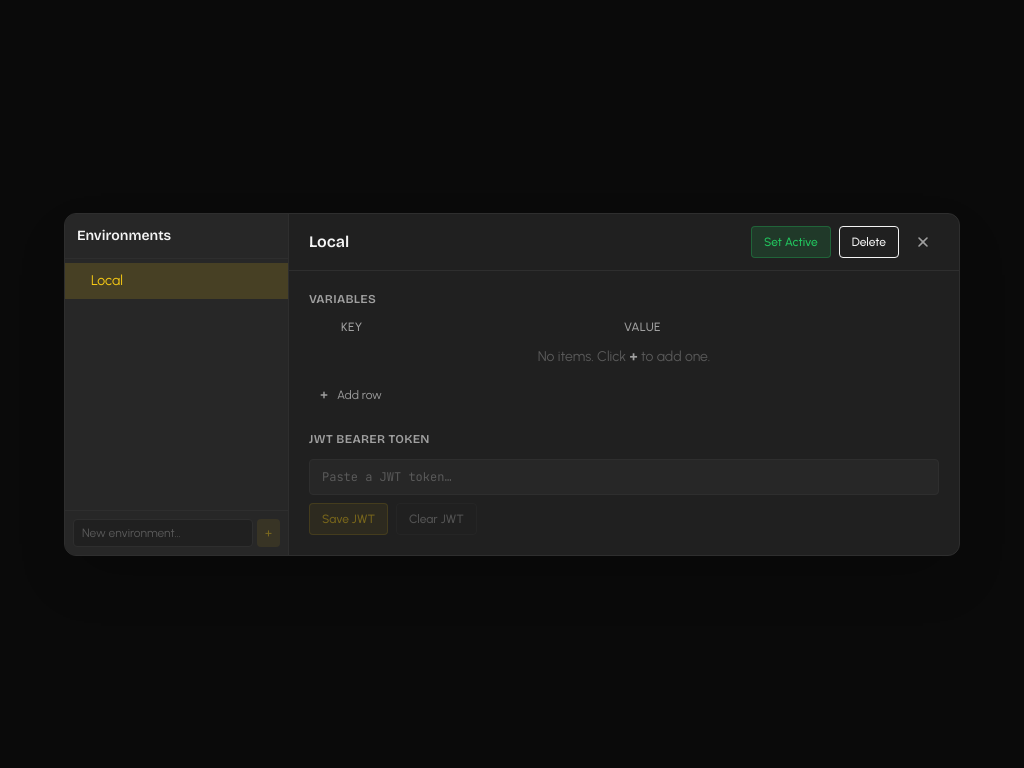
Test case: EnvironmentsModal › Save JWT button › shows inline error message when the store throws for invalid JWT format
The image size is (1024, 768).
Step 1. Type "invalid-token" into the field named "JWT token" → x=624, y=476, box [309,458,939,494]
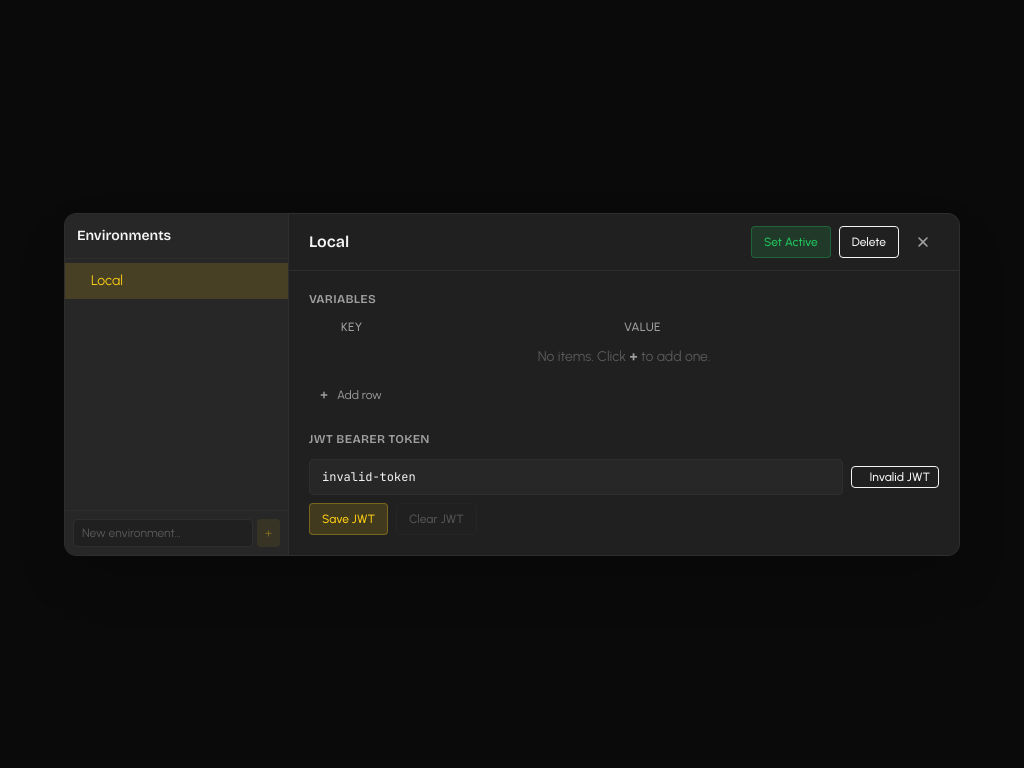
Step 2. Click the button with aria-label "Save JWT token" → x=348, y=518, box [309,502,388,534]
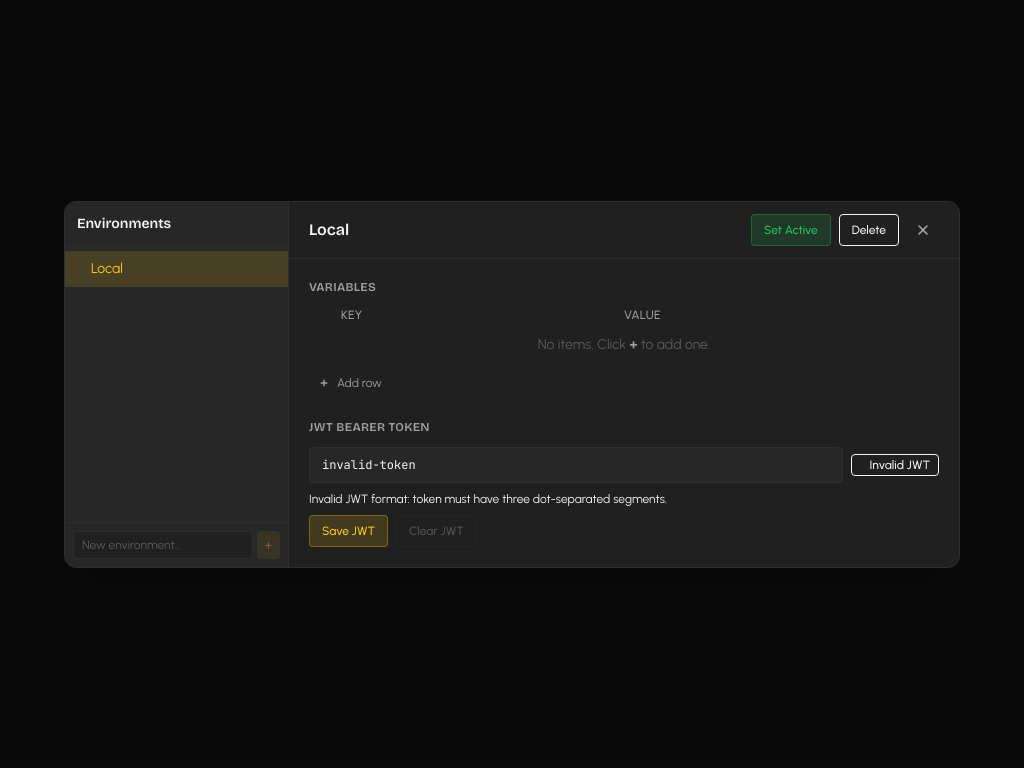
Expected: the message "Invalid JWT format: token must have three dot-separated segments." is shown, [309,492,667,506]
